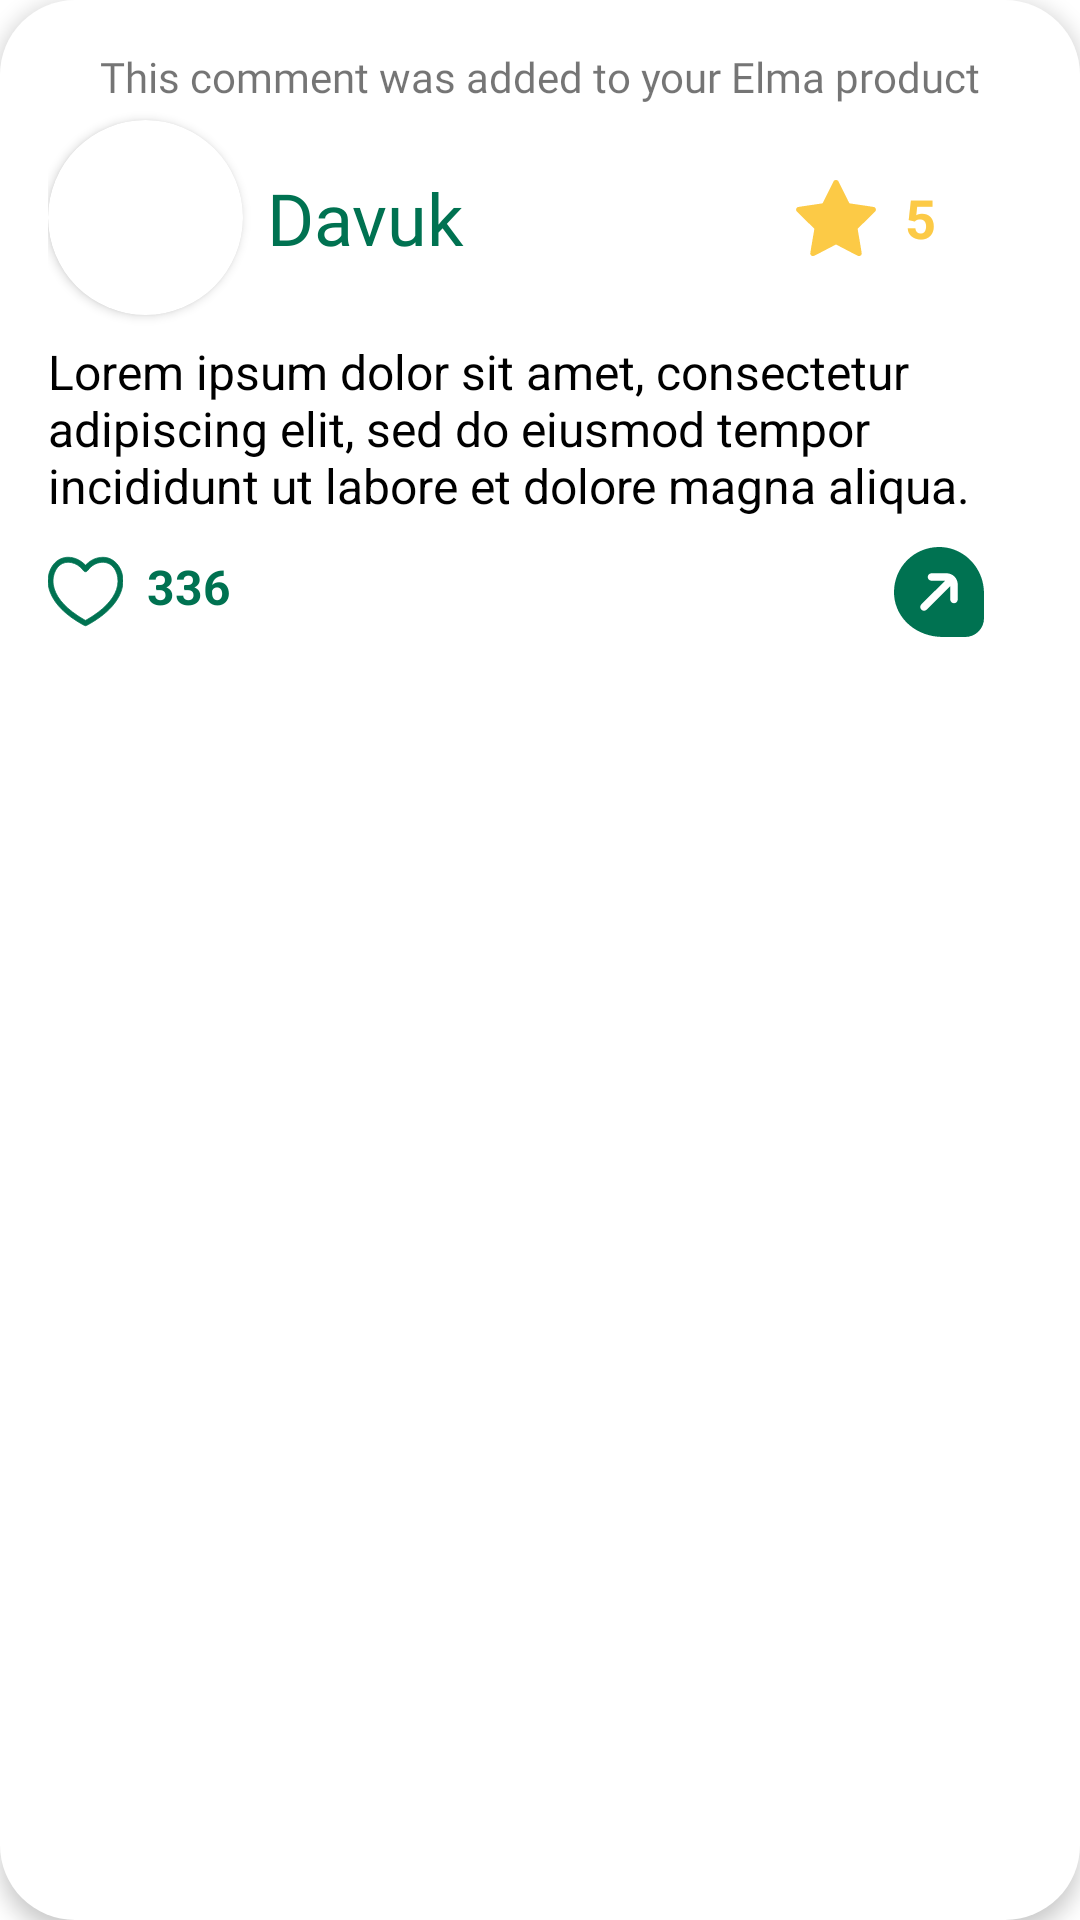

Icons on this 1080x1920 Android screen, each with the point to tap as (x=x, y=y):
reply: (x=939, y=592)
